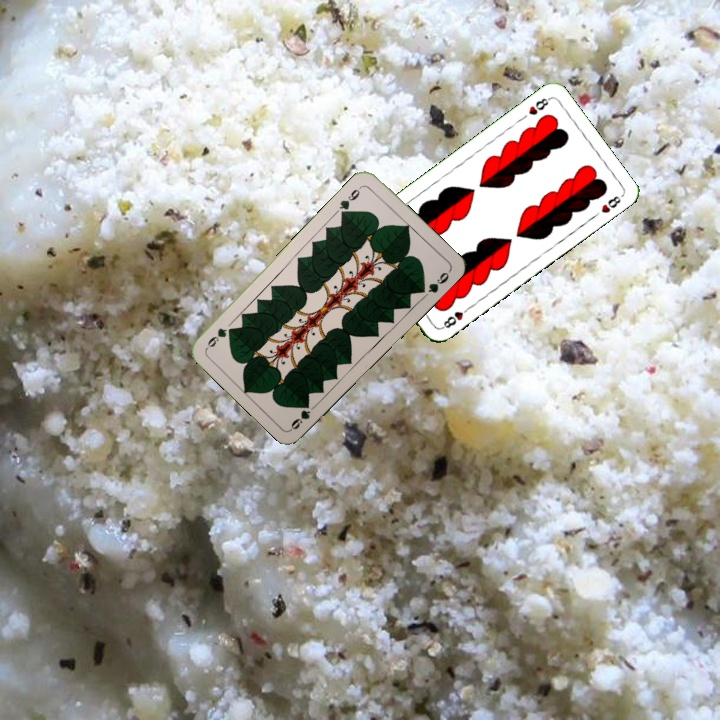G9: (335, 182, 365, 218), (287, 406, 313, 432)
H8: (438, 303, 473, 332), (524, 93, 553, 118)
